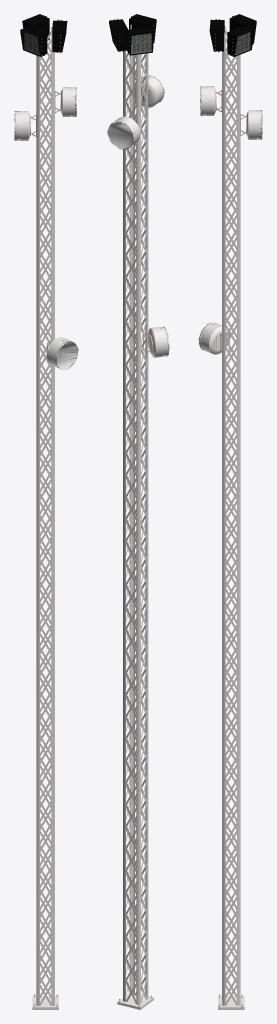
File: prefabbed_radio_tower_with_blankout_signs.glb
The picture shows the model from 3 angles, left to right: view 1: azimuth 90°, elevation 25°; view 2: azimuth 150°, elevation 25°; view 3: azimuth 270°, elevation 25°; orthographic projection.
Parts seen in each view (by area): view 1: Object_8, Object_369, Object_5; view 2: Object_8, Object_369, Object_5, Object_46; view 3: Object_8, Object_369, Object_46, Object_5.
Part boxes in pixels (x1,y1,x2,y2): Object_8: (15, 26, 75, 1009); Object_369: (20, 14, 67, 56); Object_5: (14, 87, 78, 369); Object_8: (108, 24, 167, 1009); Object_369: (109, 14, 156, 55); Object_5: (107, 75, 169, 356); Object_46: (135, 80, 157, 357); Object_8: (199, 25, 261, 1009); Object_369: (209, 14, 256, 56); Object_46: (209, 88, 248, 354); Object_5: (198, 86, 262, 351).
Size of the model in its own units: 1.63 by 29.05 by 1.74.
Materials: 5 (5 with a texture image).
